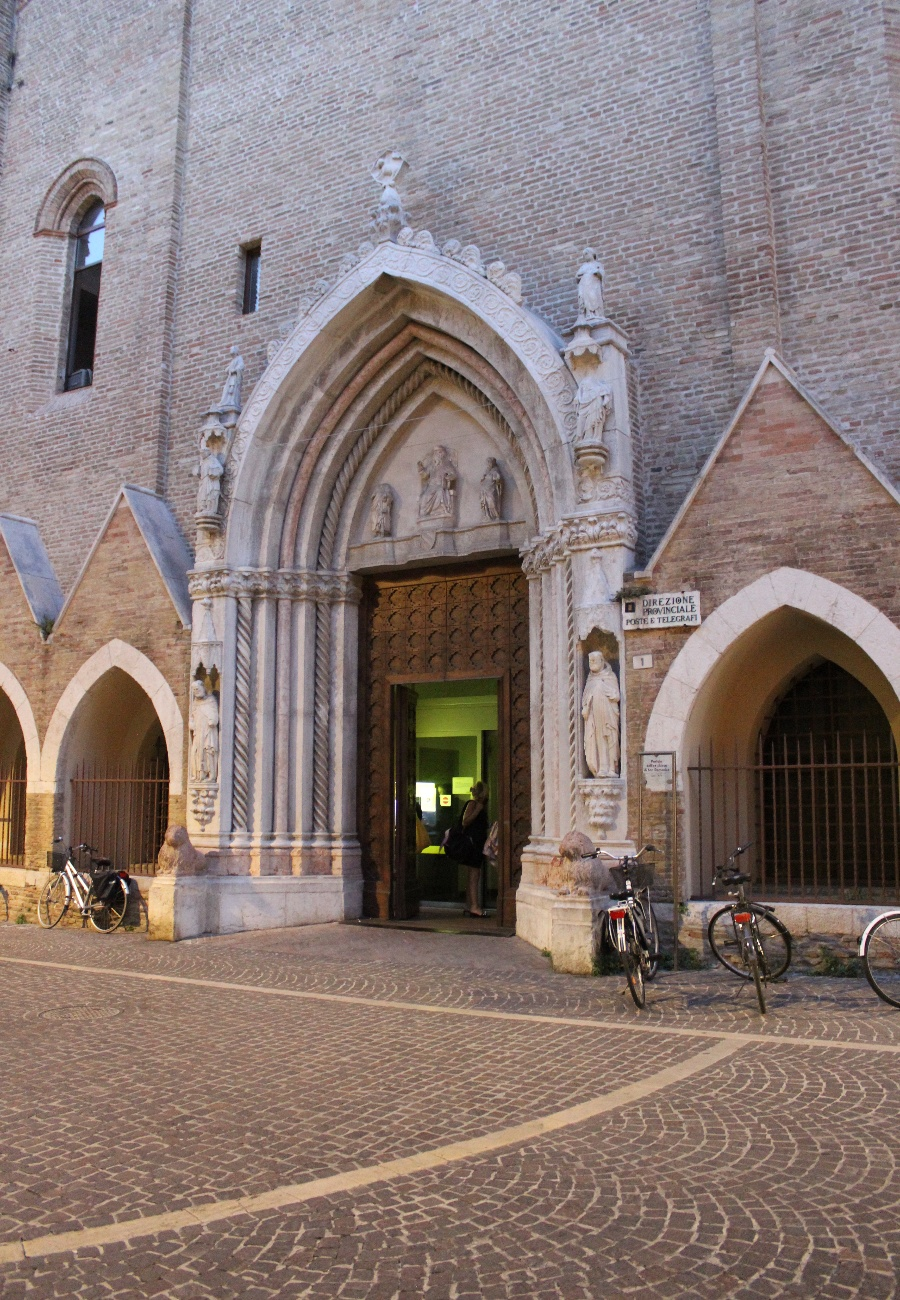Portale San Domenico: (163, 146, 627, 978)
